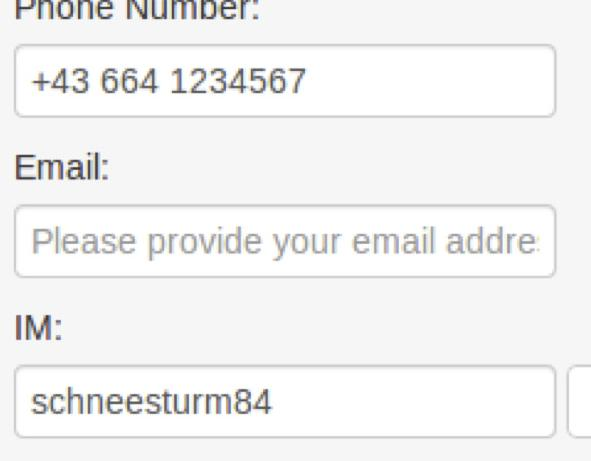field: (11, 37, 563, 123), (5, 199, 563, 281), (11, 359, 561, 437)
